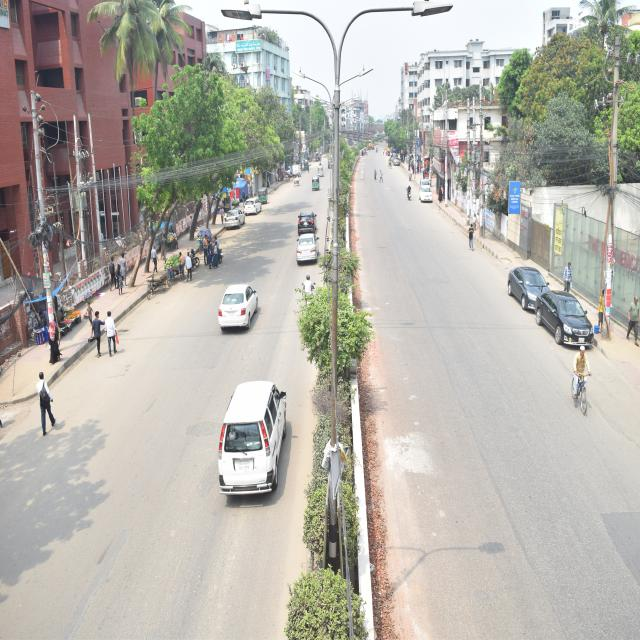car: (502, 243, 563, 335), (533, 285, 609, 355), (205, 278, 267, 339), (291, 218, 324, 277), (242, 188, 278, 238), (291, 195, 318, 239), (220, 202, 248, 236), (418, 183, 440, 210), (322, 145, 340, 168), (417, 173, 433, 194)
microbus: (207, 358, 317, 503)
motorbike: (198, 229, 236, 287), (181, 236, 211, 280), (396, 178, 416, 219)
pickup-van: (286, 158, 314, 198)
